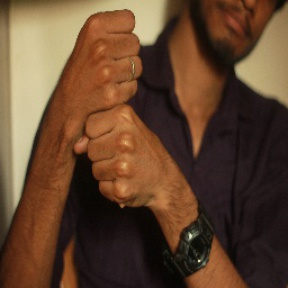G: (60, 6, 170, 207)
